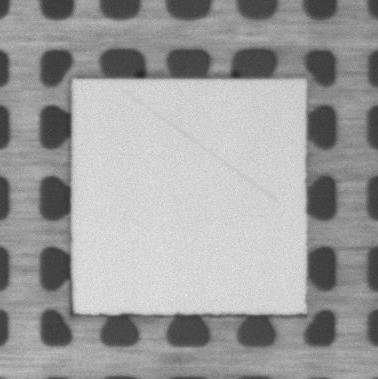DIE_CRACK: (123, 90, 276, 201)
